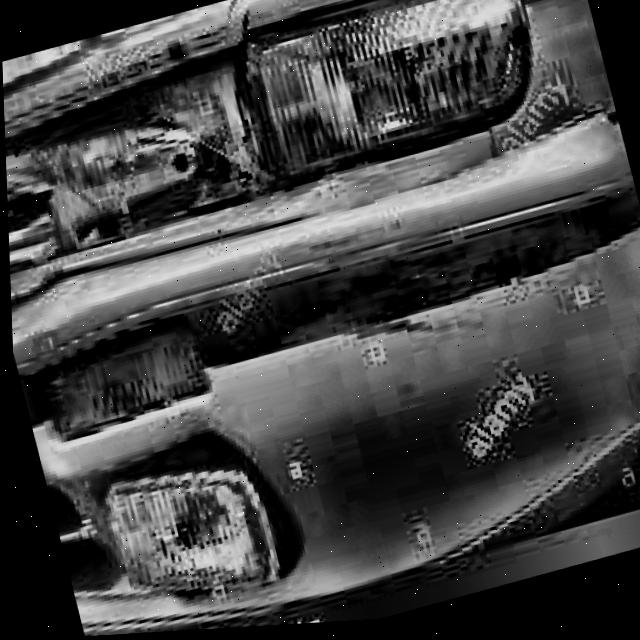head_lamp: (1, 0, 519, 277), (83, 407, 313, 636)
